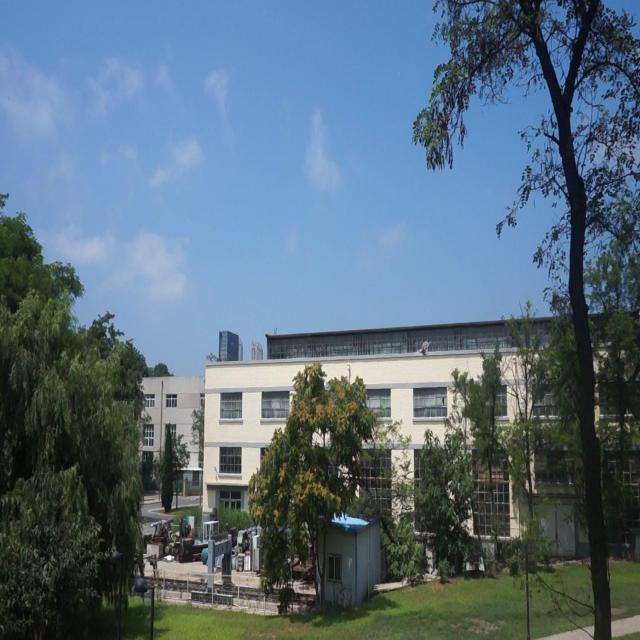UAV: (414, 341, 429, 356)
